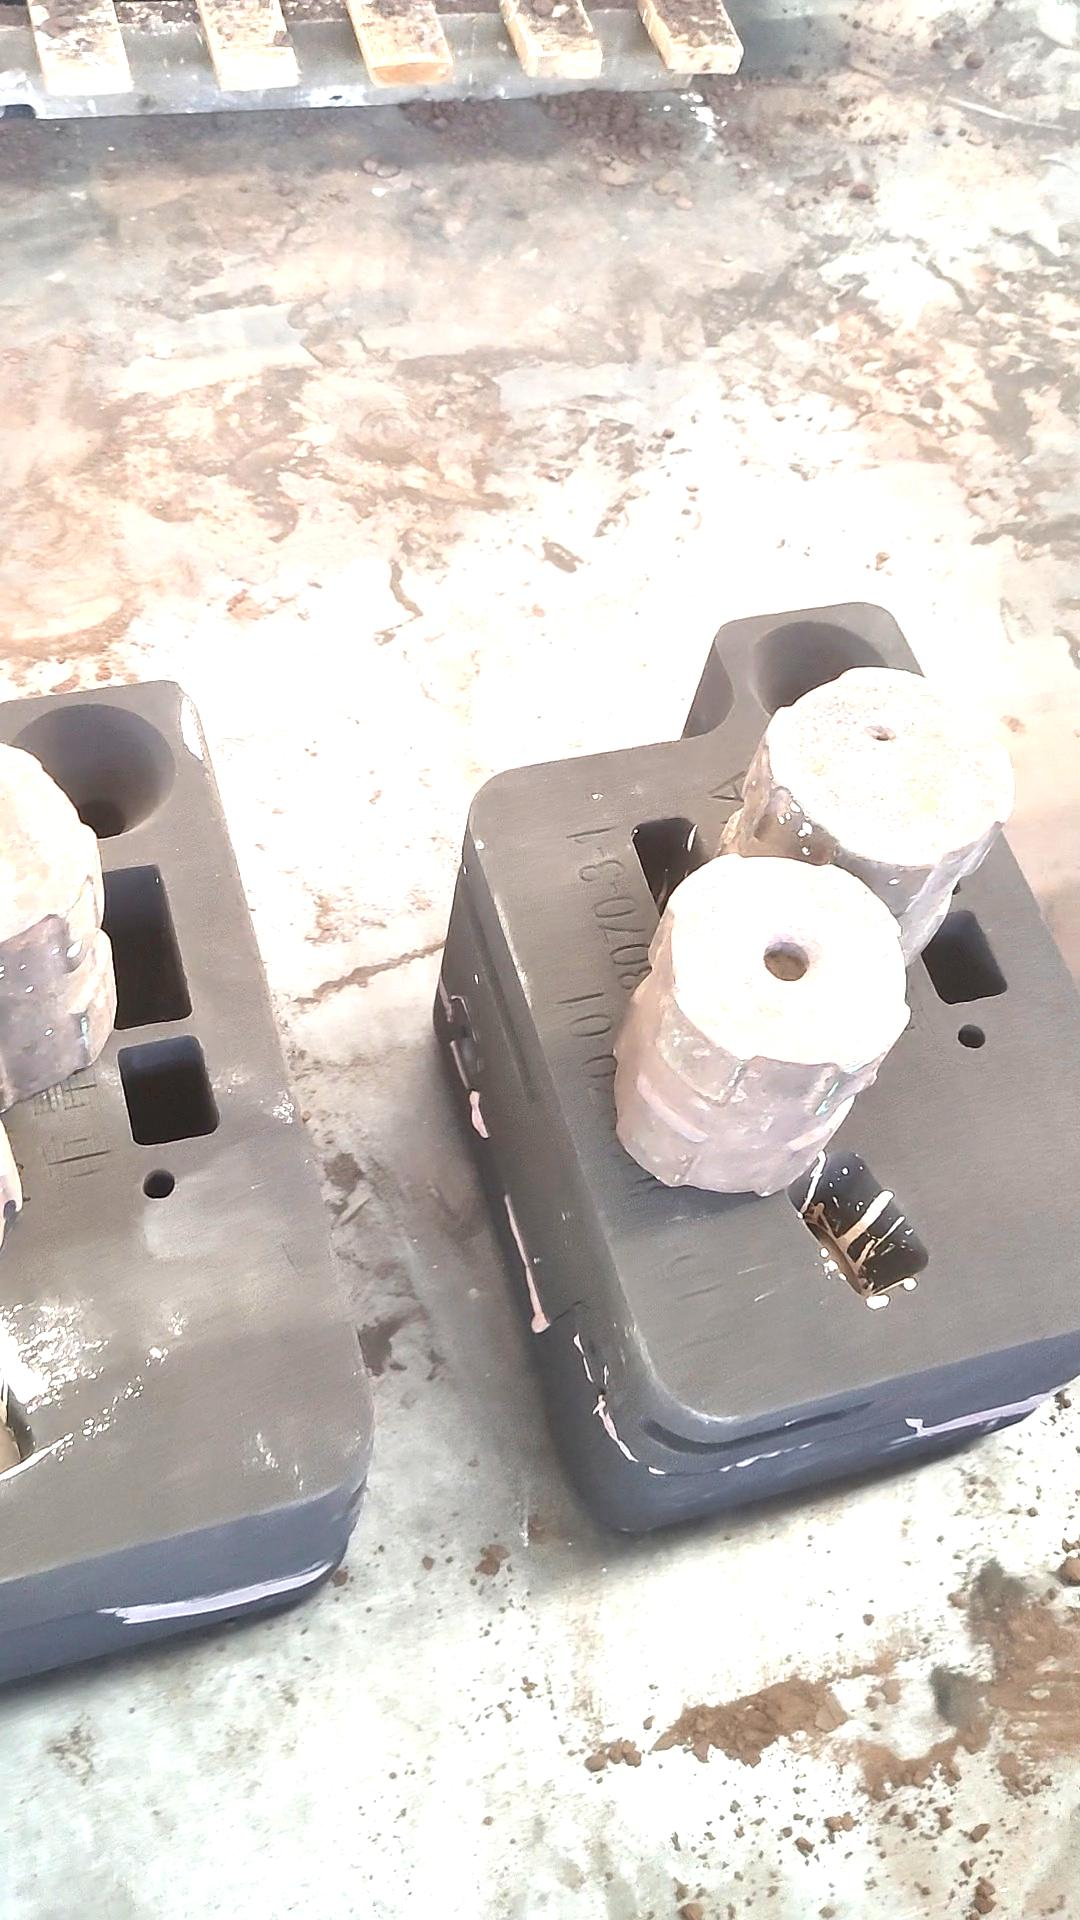pouring hole: (5, 702, 175, 847), (749, 620, 905, 731)
